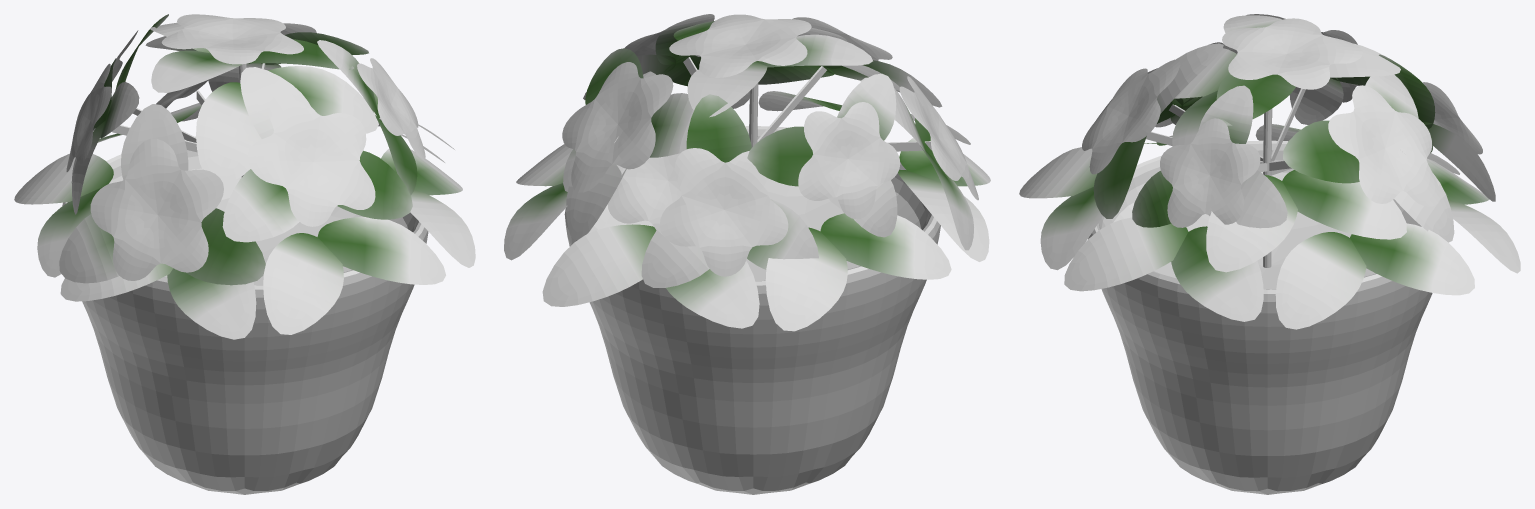
Rendered from FlowerPot.fbx.
The picture shows the model from 3 angles, left to right: view 1: azimuth 30°, elevation 25°; view 2: azimuth 150°, elevation 25°; view 3: azimuth 270°, elevation 25°; orthographic projection. The views are drawn at different scales.
Visible parts, largest first — view 1: PottedFlower; view 2: PottedFlower; view 3: PottedFlower.
Part boxes in pixels (x1,y1,x2,y2): PottedFlower: (14, 14, 475, 494); PottedFlower: (504, 14, 990, 494); PottedFlower: (1019, 14, 1520, 494).
Bounding box in the file's own units: 3.1 × 3.16 × 3.32.
